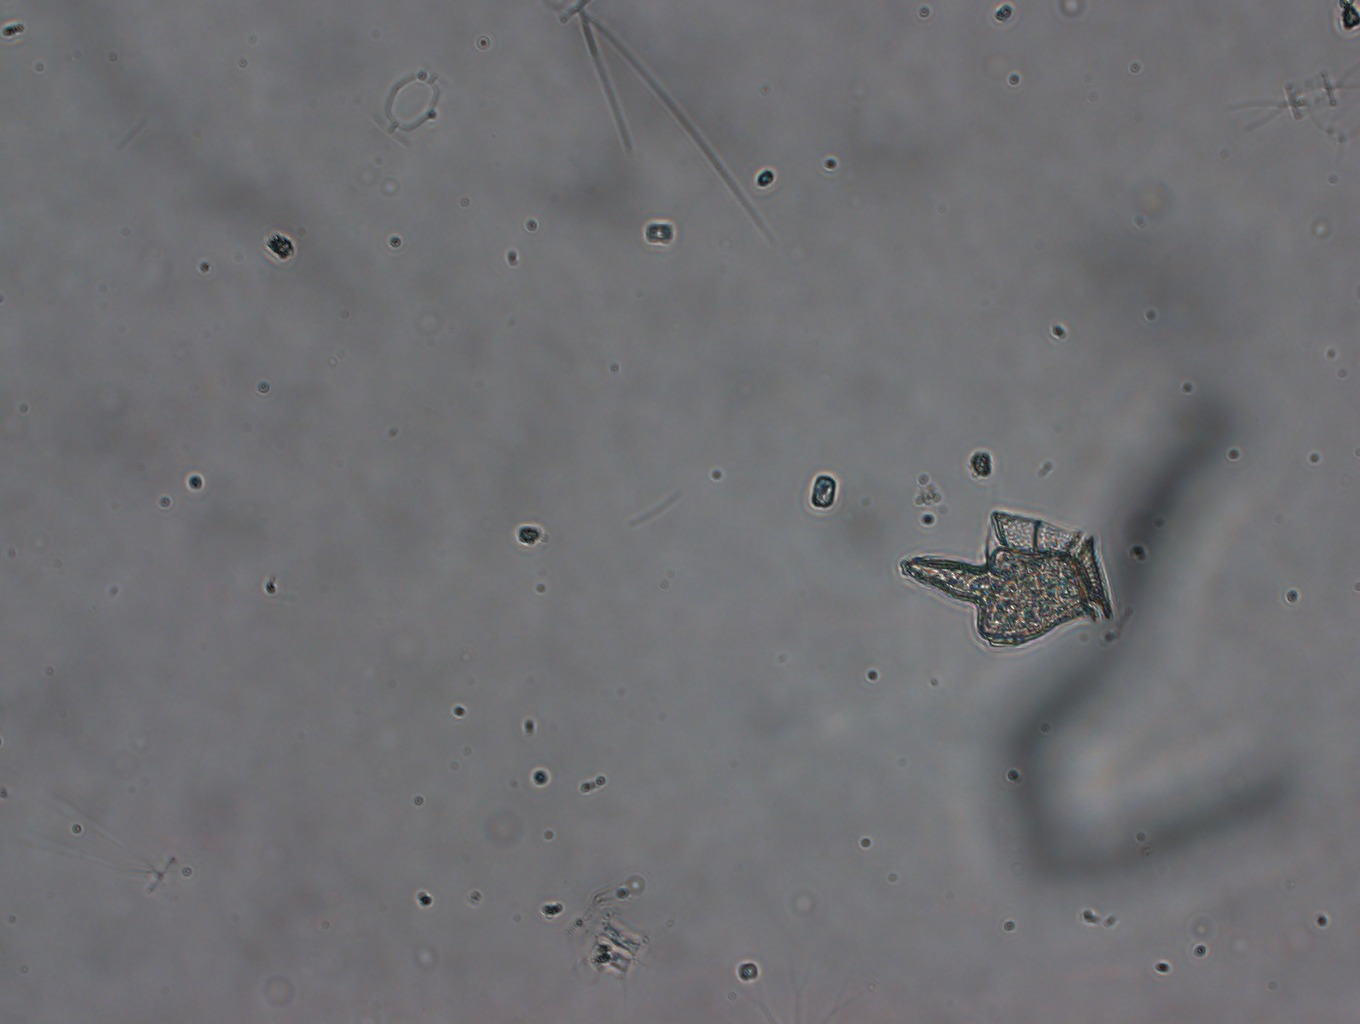dinophysis caudata: (896, 507, 1116, 651)
